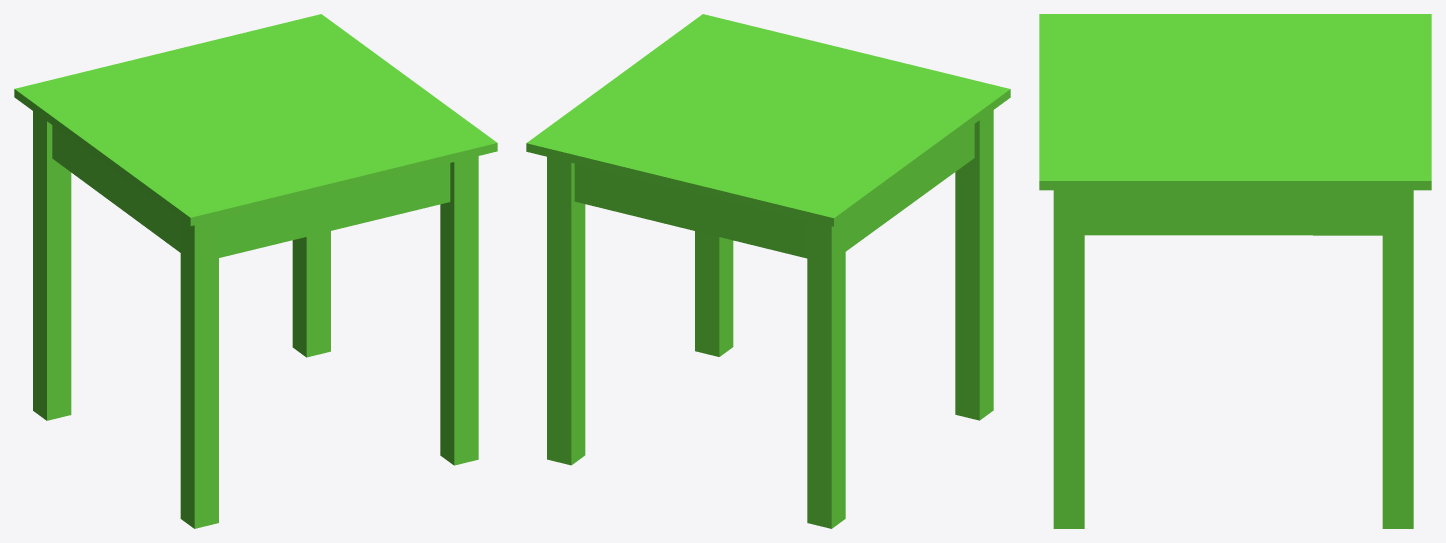
The model's file is Table 1.FBX.
3 views of the same model, side by side, from view 1: azimuth 30°, elevation 25°; view 2: azimuth 150°, elevation 25°; view 3: azimuth 270°, elevation 25° (orthographic). The views are drawn at different scales.
Visible parts, largest first — view 1: table 1; view 2: table 1; view 3: table 1.
Part boxes in pixels (x1=…): table 1: x1=14, y1=14, x2=497, y2=528; table 1: x1=526, y1=14, x2=1010, y2=528; table 1: x1=1039, y1=14, x2=1431, y2=528.
Size of the model in its own units: 74.97 by 74.32 by 74.51.
